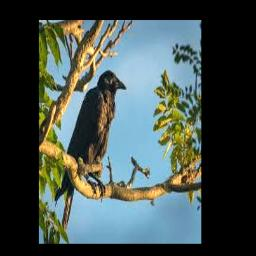Crow: (55, 70, 126, 230)
